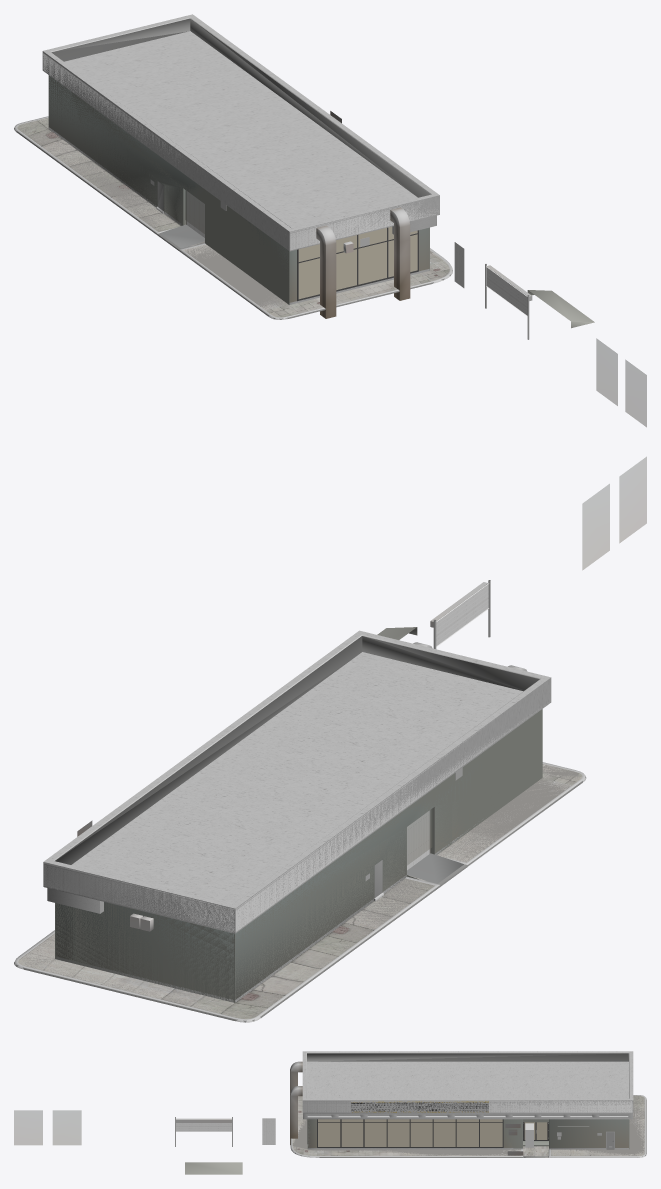
Rendered from s_workshop.dae.
3 renders of one model, top to bottom at view 1: azimuth 30°, elevation 25°; view 2: azimuth 150°, elevation 25°; view 3: azimuth 270°, elevation 25°, orthographic. The views are drawn at different scales.
Visible parts, largest first — view 1: Colmesh_s_workshop-1, s_workshop_L1000, s_workshop.001, s_workshop_L100, s_workshop_L250, s_workshop.002, s_workshop_L500, s_workshop_L1000.003; view 2: Colmesh_s_workshop-1, s_workshop_L1000, s_workshop_L100, s_workshop_L250, s_workshop.001, s_workshop_L500, s_workshop_L1000.003; view 3: Colmesh_s_workshop-1, s_workshop_L1000, s_workshop.001, s_workshop_L100, s_workshop.004, s_workshop_L250, s_workshop.002, Cube.
Part boxes in pixels (bbox=[...]): Colmesh_s_workshop-1: bbox=[15, 14, 450, 309]; s_workshop_L1000: bbox=[14, 17, 452, 319]; s_workshop.001: bbox=[390, 207, 646, 426]; s_workshop_L100: bbox=[51, 18, 430, 227]; s_workshop_L250: bbox=[14, 85, 452, 319]; s_workshop.002: bbox=[316, 225, 336, 318]; s_workshop_L500: bbox=[21, 86, 181, 230]; s_workshop_L1000.003: bbox=[185, 190, 204, 233]; Colmesh_s_workshop-1: bbox=[21, 630, 585, 1017]; s_workshop_L1000: bbox=[14, 634, 585, 1022]; s_workshop_L100: bbox=[55, 636, 539, 864]; s_workshop_L250: bbox=[14, 776, 585, 1022]; s_workshop.001: bbox=[377, 457, 646, 648]; s_workshop_L500: bbox=[236, 829, 433, 1012]; s_workshop_L1000.003: bbox=[407, 809, 431, 865]; Colmesh_s_workshop-1: bbox=[293, 1051, 644, 1157]; s_workshop_L1000: bbox=[290, 1052, 646, 1157]; s_workshop.001: bbox=[14, 1086, 302, 1174]; s_workshop_L100: bbox=[307, 1053, 628, 1112]; s_workshop.004: bbox=[303, 1113, 632, 1119]; s_workshop_L250: bbox=[290, 1100, 646, 1157]; s_workshop.002: bbox=[290, 1061, 302, 1092]; Cube: bbox=[525, 1123, 533, 1147].
Bounding box in the file's own units: 19.2 × 65.56 × 6.63.
